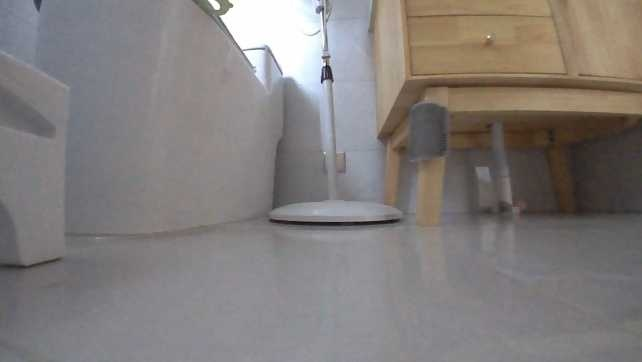chair_base: (266, 189, 402, 226)
toilet: (30, 0, 285, 235)
washstand: (369, 0, 641, 219)
